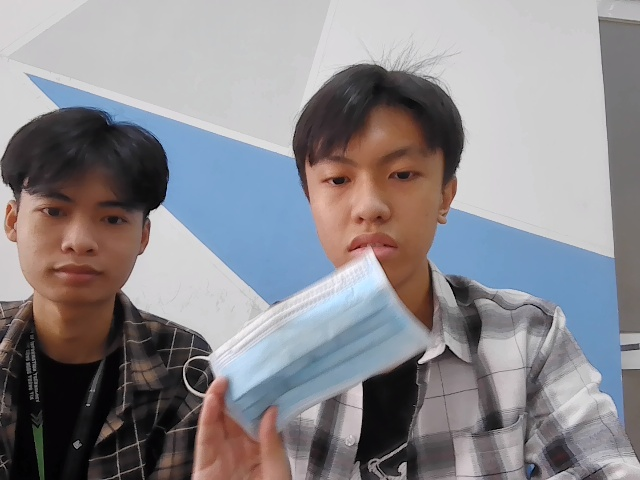human: (292, 40, 473, 278), (2, 93, 177, 307)
mask: (204, 260, 438, 435)
